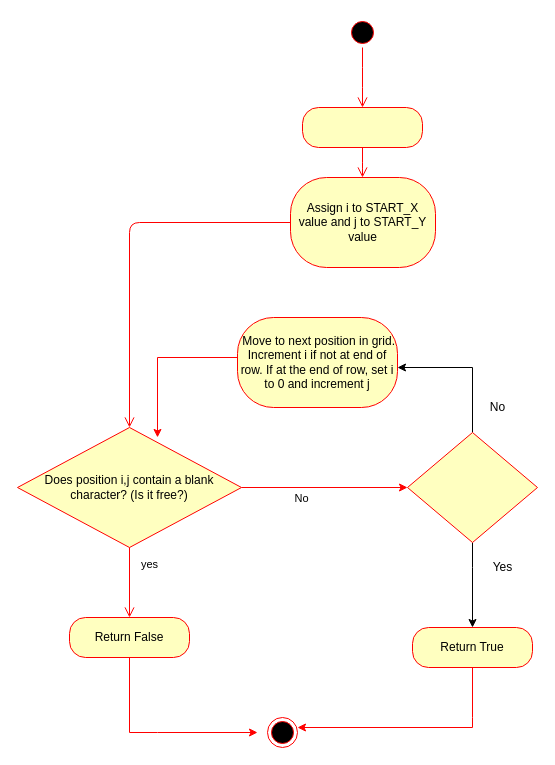
The diagram is 555 pixels wide and 765 high, and some of its shapes have lost their labels. The centre of each missing label's shape, as x and y in pixels:
"Are you at the last board position" belongs at pixel 472 487.
"Declare integers i and j" belongs at pixel 362 127.
